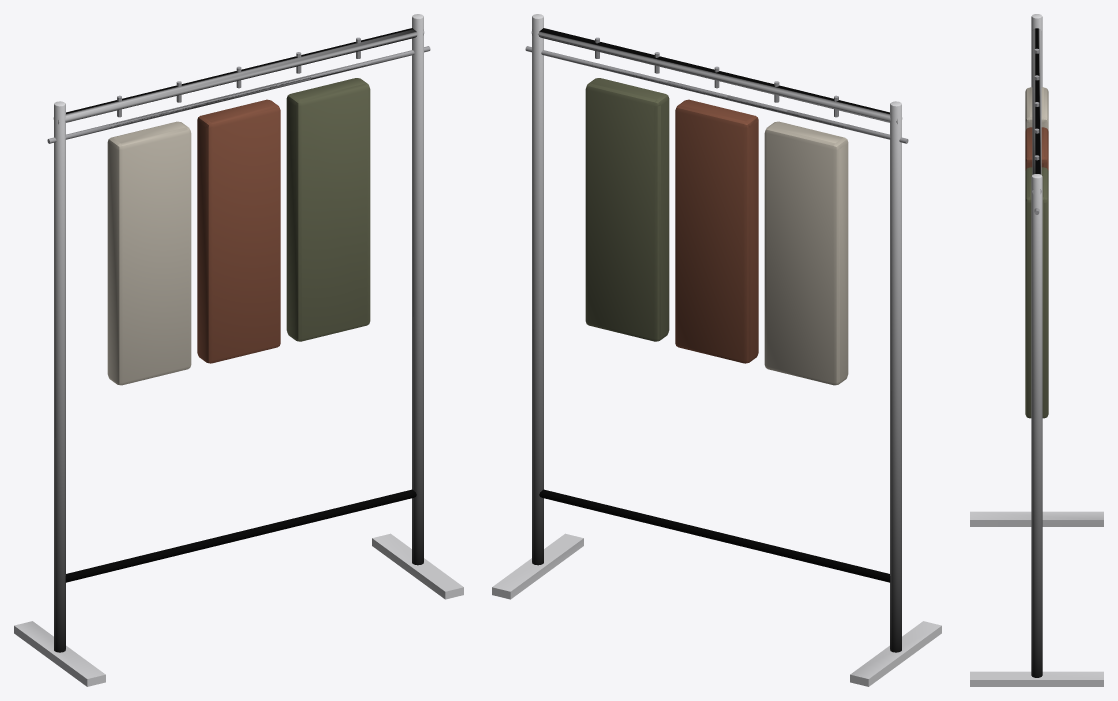
The model's file is clothes_rail.glb.
3 views of the same model, side by side, from view 1: azimuth 30°, elevation 25°; view 2: azimuth 150°, elevation 25°; view 3: azimuth 270°, elevation 25° (orthographic). The views are drawn at different scales.
Parts seen in each view (by area): view 1: clothes_rail; view 2: clothes_rail; view 3: clothes_rail.
Boxes of the visible parts, x1,y1,x2,y2 form: clothes_rail: (14,14,463,686); clothes_rail: (492,14,941,686); clothes_rail: (970,14,1103,686).
Bounding box in the file's own units: 1.02 × 1.42 × 0.34.
